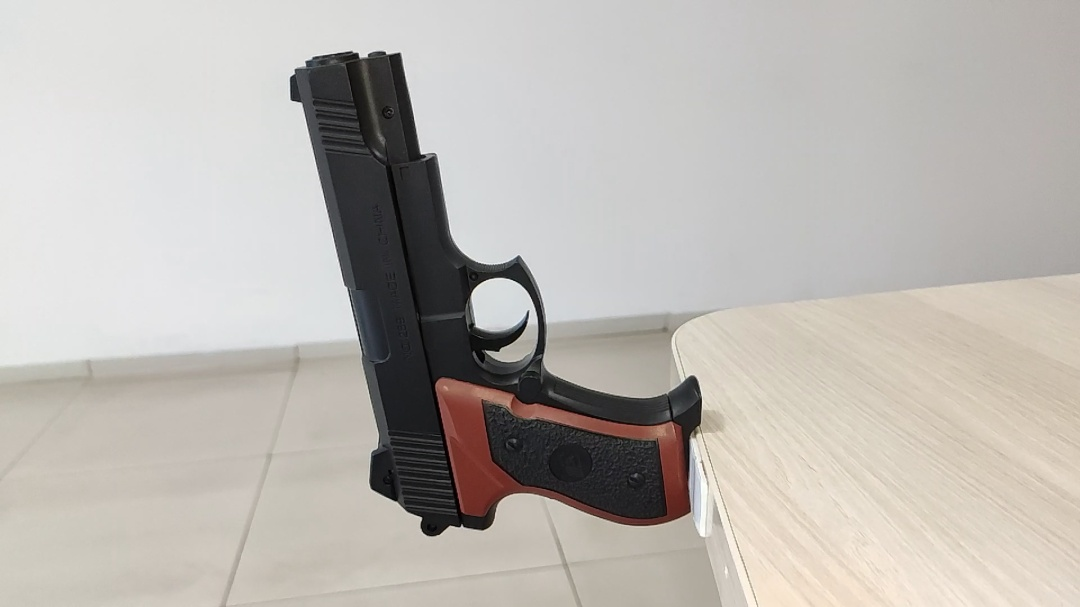gun: (365, 293, 403, 325)
